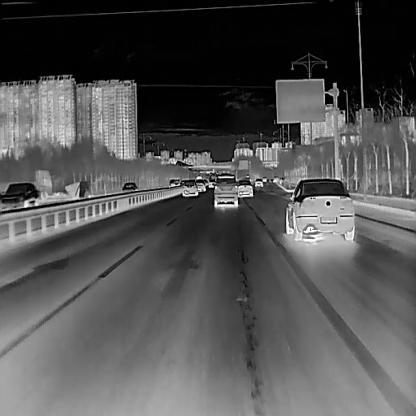car: (284, 177, 355, 240), (0, 169, 53, 200), (0, 181, 40, 207), (213, 171, 237, 208), (181, 178, 197, 196), (236, 180, 252, 197), (120, 181, 138, 192), (254, 176, 263, 186)
